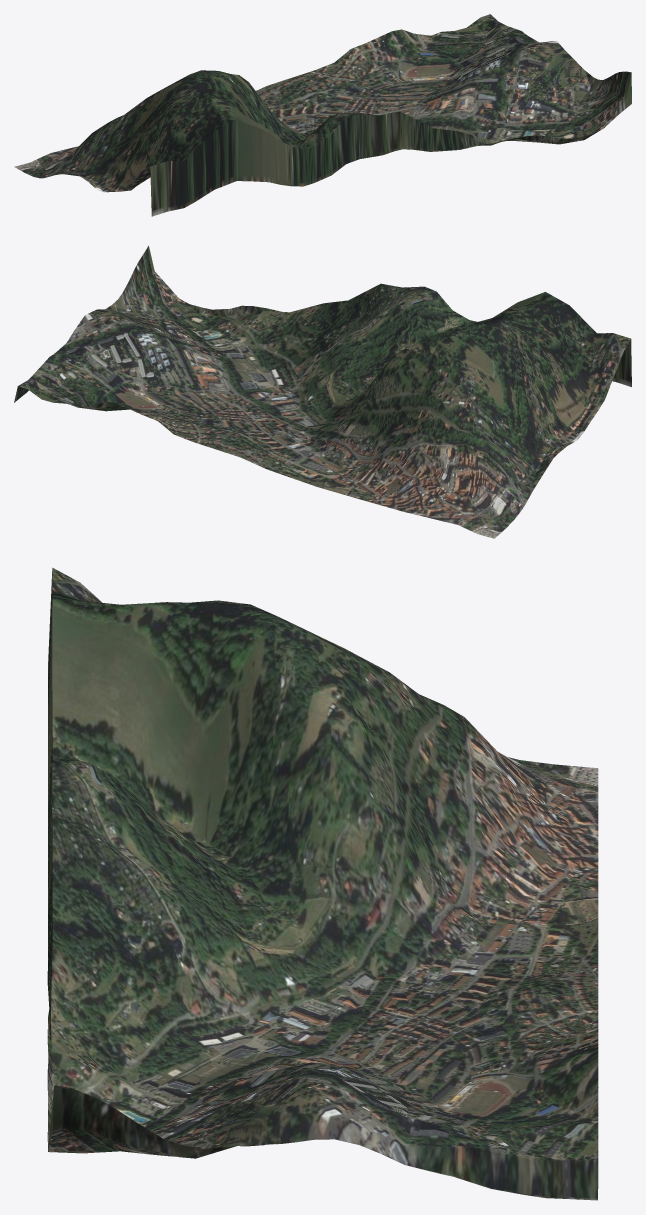
The model's file is Schmalkalden.fbx.
3 renders of one model, top to bottom at view 1: azimuth 30°, elevation 25°; view 2: azimuth 150°, elevation 25°; view 3: azimuth 270°, elevation 25°, orthographic. The views are drawn at different scales.
Parts seen in each view (by area): view 1: Plane; view 2: Plane; view 3: Plane.
Part boxes in pixels (x1,y1,x2,y2): Plane: (14,14,631,216); Plane: (14,245,631,538); Plane: (47,567,598,1200).
Size of the model in its own units: 398 by 99.91 by 197.
1 material, 1 textured.
